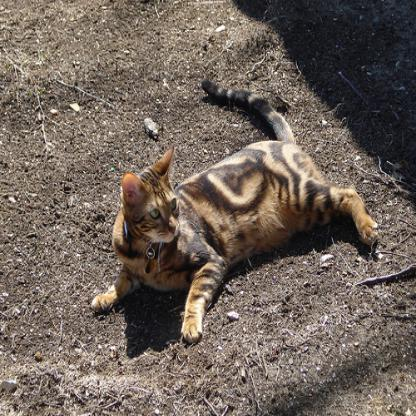cat: (91, 78, 378, 345)
